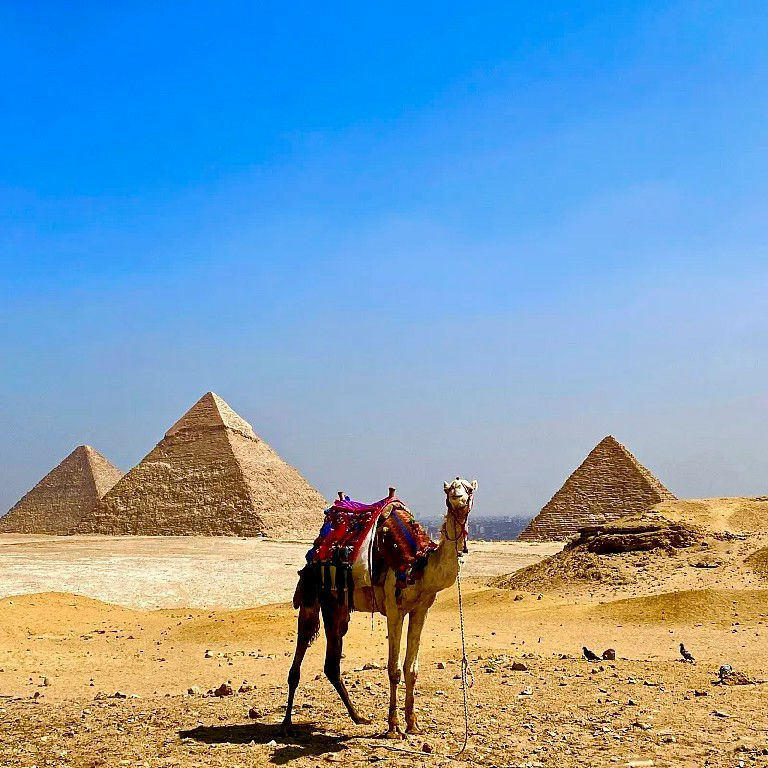Pyramid: (71, 393, 327, 542), (517, 437, 677, 541), (1, 447, 122, 534)
